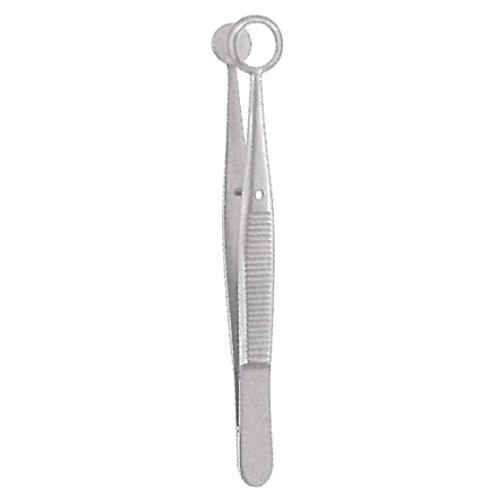Eye Intestinal Forceps: (201, 16, 304, 490)
